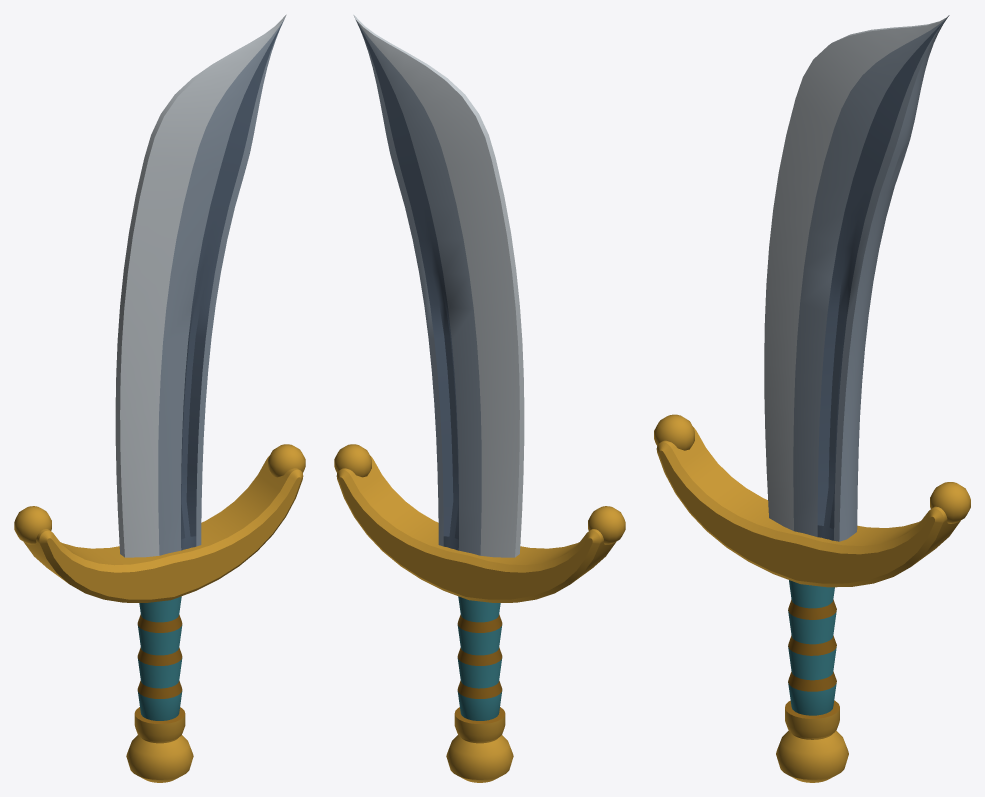
Rendered from Scimitar_13.glb.
3 renders of one model, left to right at view 1: azimuth 30°, elevation 25°; view 2: azimuth 150°, elevation 25°; view 3: azimuth 330°, elevation 25°, orthographic. The views are drawn at different scales.
Parts seen in each view (by area): view 1: Scimitar_13; view 2: Scimitar_13; view 3: Scimitar_13.
Boxes of the visible parts, x1,y1,x2,y2 form: Scimitar_13: (14, 14, 305, 782); Scimitar_13: (334, 14, 625, 782); Scimitar_13: (654, 15, 970, 782).
Bounding box in the file's own units: 2.56 × 6.25 × 0.522.
